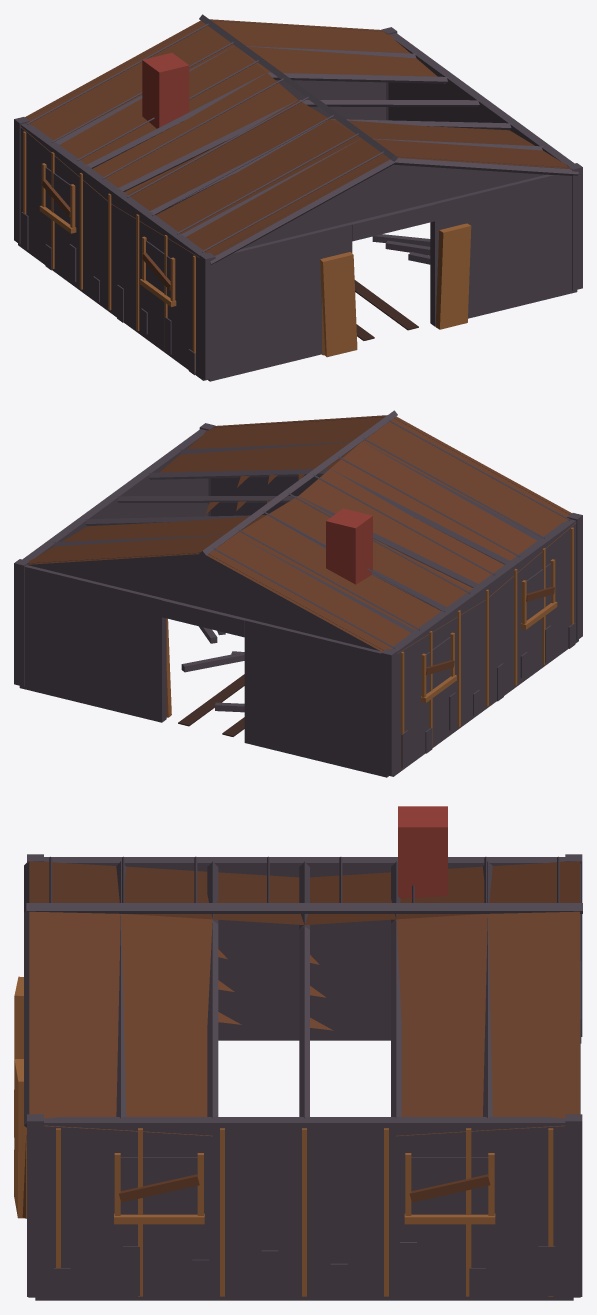
Rendered from bld.farm-house-ruin.burned.glb.
The picture shows the model from 3 angles, top to bottom: view 1: azimuth 30°, elevation 25°; view 2: azimuth 150°, elevation 25°; view 3: azimuth 270°, elevation 25°; orthographic projection. The views are drawn at different scales.
Visible parts, largest first — view 1: body; view 2: body; view 3: body.
Part boxes in pixels (bbox=[...]): body: bbox=[14, 14, 582, 381]; body: bbox=[14, 410, 582, 777]; body: bbox=[14, 806, 582, 1300].
Bounding box in the file's own units: 8.41 × 4.11 × 7.4.
